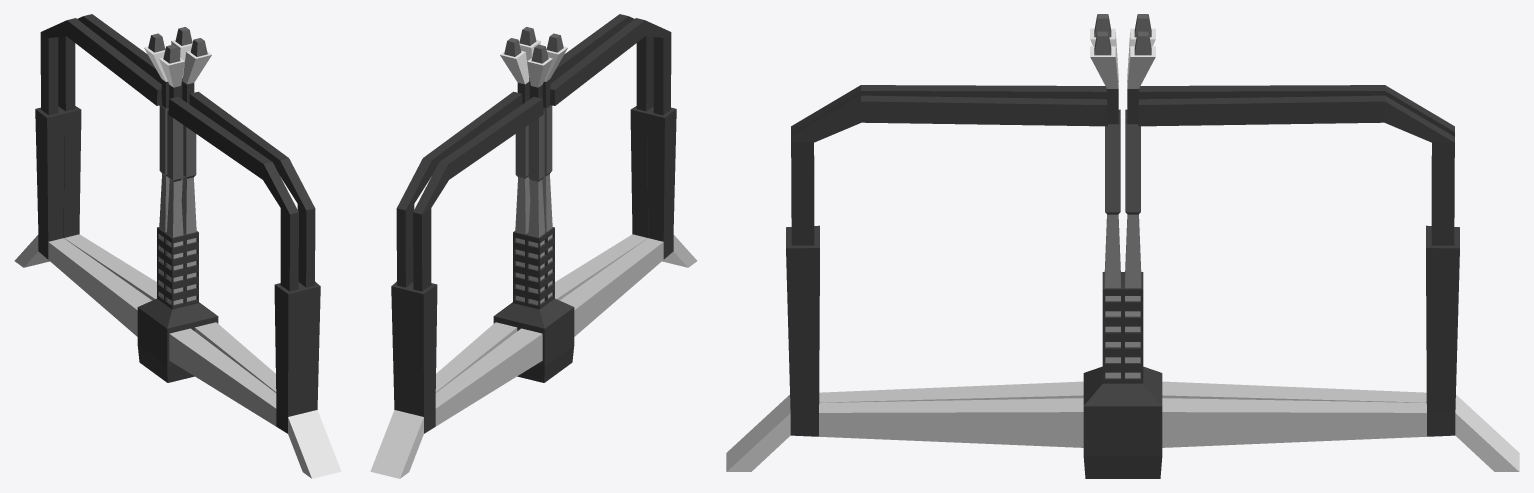
The model's file is randomobject.fbx.
The picture shows the model from 3 angles, left to right: view 1: azimuth 30°, elevation 25°; view 2: azimuth 150°, elevation 25°; view 3: azimuth 270°, elevation 25°; orthographic projection. The views are drawn at different scales.
Parts seen in each view (by area): view 1: Cube; view 2: Cube; view 3: Cube.
Boxes of the visible parts, x1,y1,x2,y2 form: Cube: [14, 14, 341, 478]; Cube: [370, 14, 697, 478]; Cube: [726, 14, 1519, 478].
Size of the model in its own units: 38.66 by 390 by 237.
